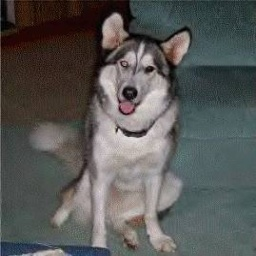dog: (39, 19, 199, 254)
